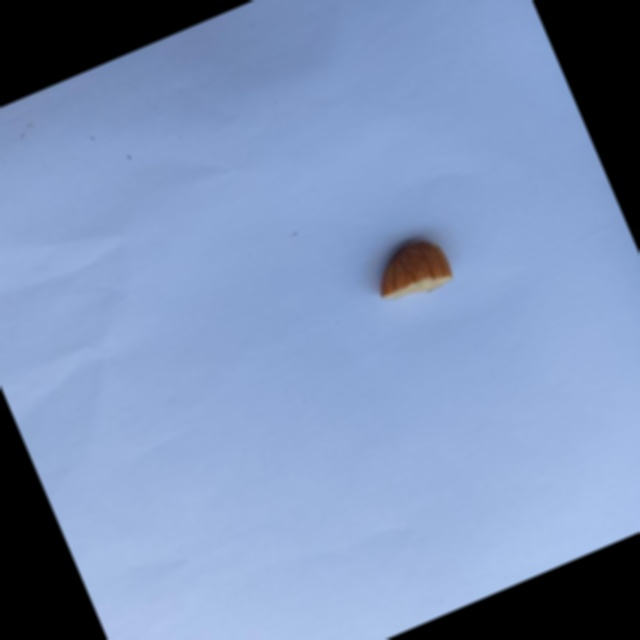grade4: (356, 224, 464, 317)
